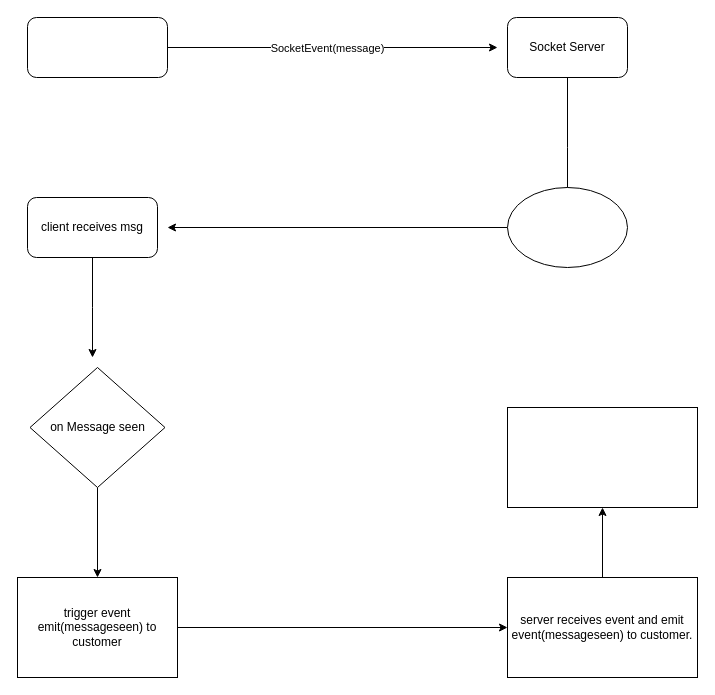
This 715x695 diagram has some shape labels left out. The shapes that lost their labels are listed below. From the top down, each one's box as (x1, y1, x2, y2) in pixels, then its label:
(26, 16, 168, 78): customer sends msg emit(message) to client
(506, 186, 628, 268): server creating event emit(message) to client
(506, 406, 698, 508): customer listens for event(messageseen)
